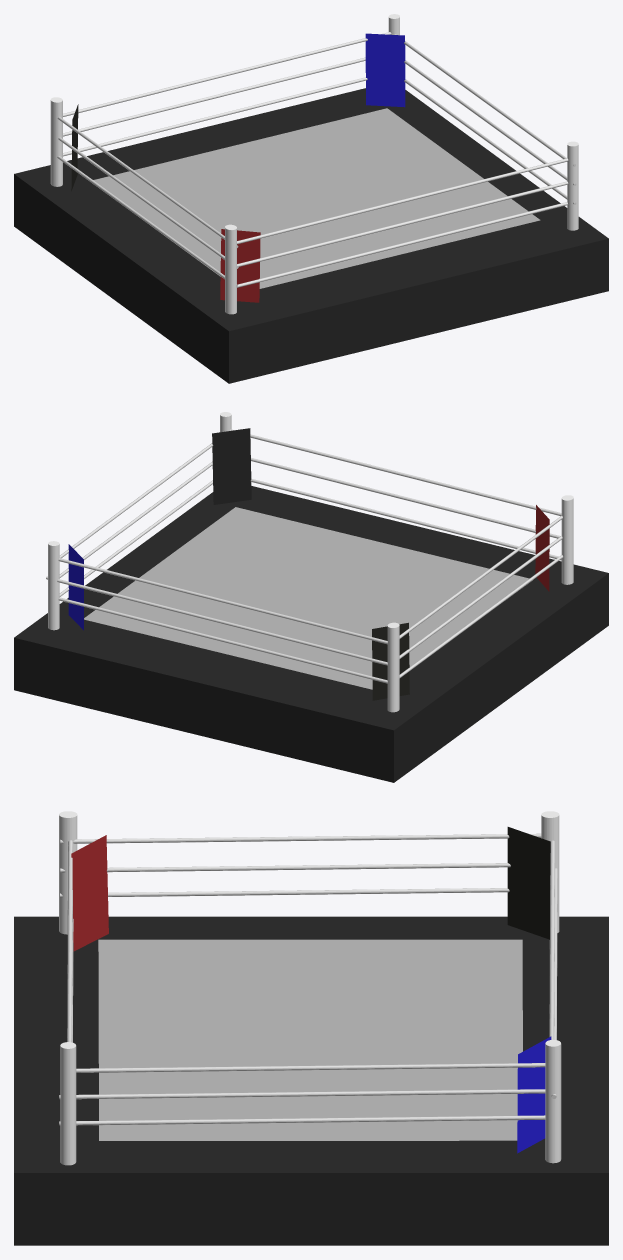
Rendered from ring.glb.
The picture shows the model from 3 angles, top to bottom: view 1: azimuth 30°, elevation 25°; view 2: azimuth 150°, elevation 25°; view 3: azimuth 270°, elevation 25°; orthographic projection. The views are drawn at different scales.
Parts seen in each view (by area): view 1: Cube.001, Plane, Plane.004, Plane.002, Cylinder.011, Cylinder.015, Cylinder.009, Cylinder.013, Cylinder.010, Cylinder.012, Cylinder.002, Cylinder (+7 smaller); view 2: Cube.001, Plane, Plane.003, Plane.001, Cylinder.010, Cylinder.013, Cylinder.012, Cylinder.011, Cylinder.015, Cylinder.009, Cylinder.002, Cylinder (+9 smaller); view 3: Cube.001, Plane, Plane.001, Plane.002, Plane.004, Cylinder.014, Cylinder.008, Cylinder.007, Cylinder.004, Cylinder.001, Cylinder.003, Cylinder.005 (+6 smaller).
Part boxes in pixels (bbox=[...]): Cube.001: bbox=[14, 88, 608, 383]; Plane: bbox=[93, 108, 540, 288]; Plane.004: bbox=[365, 33, 405, 107]; Plane.002: bbox=[220, 229, 260, 302]; Cylinder.011: bbox=[237, 158, 568, 244]; Cylinder.015: bbox=[237, 181, 568, 266]; Cylinder.009: bbox=[237, 202, 567, 287]; Cylinder.013: bbox=[63, 32, 391, 116]; Cylinder.010: bbox=[63, 57, 365, 136]; Cylinder.012: bbox=[63, 77, 367, 156]; Cylinder.002: bbox=[50, 97, 62, 186]; Cylinder: bbox=[225, 224, 236, 314]; Cube.001: bbox=[14, 486, 608, 782]; Plane: bbox=[84, 507, 532, 689]; Plane.003: bbox=[212, 428, 251, 504]; Plane.001: bbox=[372, 622, 409, 700]; Cylinder.010: bbox=[46, 576, 387, 665]; Cylinder.013: bbox=[58, 558, 387, 644]; Cylinder.012: bbox=[58, 597, 387, 683]; Cylinder.011: bbox=[229, 429, 561, 516]; Cylinder.015: bbox=[251, 458, 560, 538]; Cylinder.009: bbox=[250, 478, 561, 560]; Cylinder.002: bbox=[387, 622, 399, 712]; Cylinder: bbox=[561, 495, 573, 584]; Cube.001: bbox=[14, 916, 608, 1245]; Plane: bbox=[98, 939, 522, 1140]; Plane.001: bbox=[507, 827, 550, 939]; Plane.002: bbox=[71, 835, 108, 951]; Plane.004: bbox=[517, 1036, 551, 1153]; Cylinder.014: bbox=[59, 1115, 545, 1125]; Cylinder.008: bbox=[59, 1089, 545, 1099]; Cylinder.007: bbox=[76, 1063, 545, 1072]; Cylinder.004: bbox=[60, 833, 541, 843]; Cylinder.001: bbox=[60, 1042, 76, 1165]; Cylinder.003: bbox=[545, 1039, 561, 1163]; Cylinder.005: bbox=[60, 863, 510, 872].
Size of the model in its own units: 6.2 by 2.13 by 6.08.
